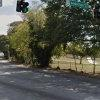Tree: (35, 7, 66, 58)
